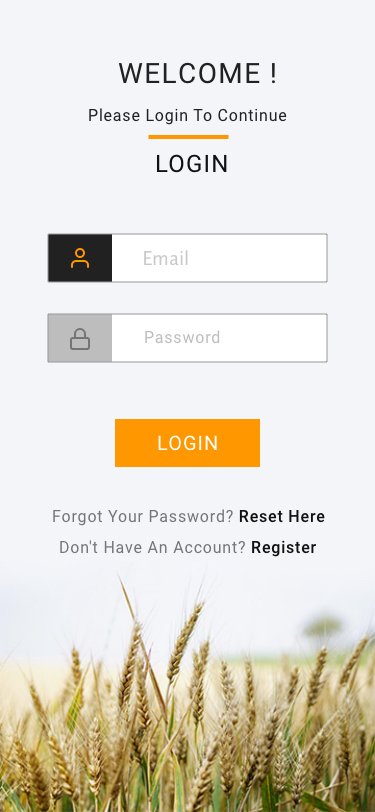BackgroundImage: (1, 1, 375, 812)
EditText: (47, 234, 328, 284), (47, 314, 328, 364)
Icon: (71, 329, 91, 351), (72, 248, 90, 269)
Image: (1, 574, 375, 812)
Text: (119, 63, 275, 85), (89, 109, 287, 126), (54, 509, 234, 526), (61, 541, 246, 554), (158, 155, 228, 174), (240, 510, 325, 523), (252, 540, 316, 557), (146, 330, 220, 344), (145, 251, 189, 266)
TextButton: (115, 419, 260, 467)
